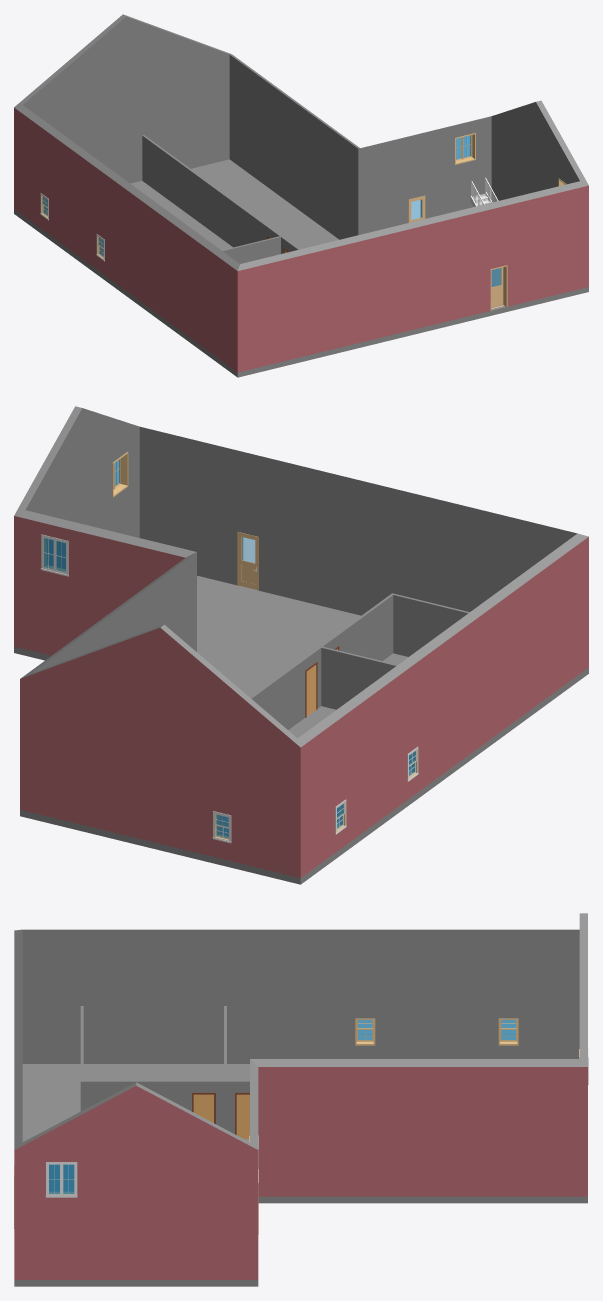
File: dollhouse1.glb
3 views of the same model, one above another, from view 1: azimuth 30°, elevation 25°; view 2: azimuth 150°, elevation 25°; view 3: azimuth 270°, elevation 25° (orthographic). The views are drawn at different scales.
Parts seen in each view (by area): view 1: Exterior - Brick on Mtl. Stud:5, Exterior - Brick on Mtl. Stud, Exterior - Brick on Mtl. Stud:1, Exterior - Brick on Mtl. Stud:2, Exterior - Brick on Mtl. Stud:3, Generic - 12" - Filled, Exterior - Brick on Mtl. Stud:4, Interior - 5" Partition (2-hr), Interior - 5" Partition (2-hr):1; view 2: Exterior - Brick on Mtl. Stud:1, Exterior - Brick on Mtl. Stud:5, Exterior - Brick on Mtl. Stud, Generic - 12" - Filled, Exterior - Brick on Mtl. Stud:3, Exterior - Brick on Mtl. Stud:4, Exterior - Brick on Mtl. Stud:2, Interior - 5" Partition (2-hr), Interior - 5" Partition (2-hr):1, Interior - 5" Partition (2-hr):2; view 3: Exterior - Brick on Mtl. Stud, Exterior - Brick on Mtl. Stud:2, Exterior - Brick on Mtl. Stud:4, Generic - 12" - Filled, Interior - 5" Partition (2-hr), Exterior - Brick on Mtl. Stud:1, Exterior - Brick on Mtl. Stud:3, Exterior - Brick on Mtl. Stud:5, 34" x 84":2, 34" x 84":5.
Boxes of the visible parts, bbox=[...] form: Exterior - Brick on Mtl. Stud:5: bbox=[240, 181, 583, 370]; Exterior - Brick on Mtl. Stud: bbox=[14, 102, 243, 372]; Exterior - Brick on Mtl. Stud:1: bbox=[20, 14, 234, 183]; Exterior - Brick on Mtl. Stud:2: bbox=[229, 55, 363, 239]; Exterior - Brick on Mtl. Stud:3: bbox=[364, 116, 491, 233]; Generic - 12" - Filled: bbox=[14, 159, 588, 377]; Exterior - Brick on Mtl. Stud:4: bbox=[491, 100, 588, 288]; Interior - 5" Partition (2-hr): bbox=[142, 135, 299, 253]; Interior - 5" Partition (2-hr):1: bbox=[222, 236, 280, 263]; Exterior - Brick on Mtl. Stud:1: bbox=[20, 624, 297, 876]; Exterior - Brick on Mtl. Stud:5: bbox=[139, 426, 577, 615]; Exterior - Brick on Mtl. Stud: bbox=[293, 533, 588, 877]; Generic - 12" - Filled: bbox=[14, 575, 588, 884]; Exterior - Brick on Mtl. Stud:3: bbox=[14, 508, 189, 655]; Exterior - Brick on Mtl. Stud:4: bbox=[18, 406, 139, 568]; Exterior - Brick on Mtl. Stud:2: bbox=[24, 550, 196, 675]; Interior - 5" Partition (2-hr): bbox=[250, 593, 394, 729]; Interior - 5" Partition (2-hr):1: bbox=[321, 646, 397, 709]; Interior - 5" Partition (2-hr):2: bbox=[393, 594, 469, 656]; Exterior - Brick on Mtl. Stud: bbox=[14, 929, 579, 1063]; Exterior - Brick on Mtl. Stud:2: bbox=[250, 1059, 579, 1196]; Exterior - Brick on Mtl. Stud:4: bbox=[14, 1082, 249, 1279]; Generic - 12" - Filled: bbox=[14, 1064, 587, 1286]; Interior - 5" Partition (2-hr): bbox=[80, 1080, 249, 1133]; Exterior - Brick on Mtl. Stud:1: bbox=[579, 913, 587, 1196]; Exterior - Brick on Mtl. Stud:3: bbox=[250, 1062, 258, 1279]; Exterior - Brick on Mtl. Stud:5: bbox=[14, 930, 22, 1146]; 34" x 84":2: bbox=[236, 1094, 249, 1138]; 34" x 84":5: bbox=[193, 1094, 213, 1122].
Size of the model in its own units: 0.9073 by 0.4256 by 1.
